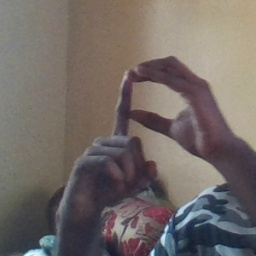P: (75, 54, 220, 198)
